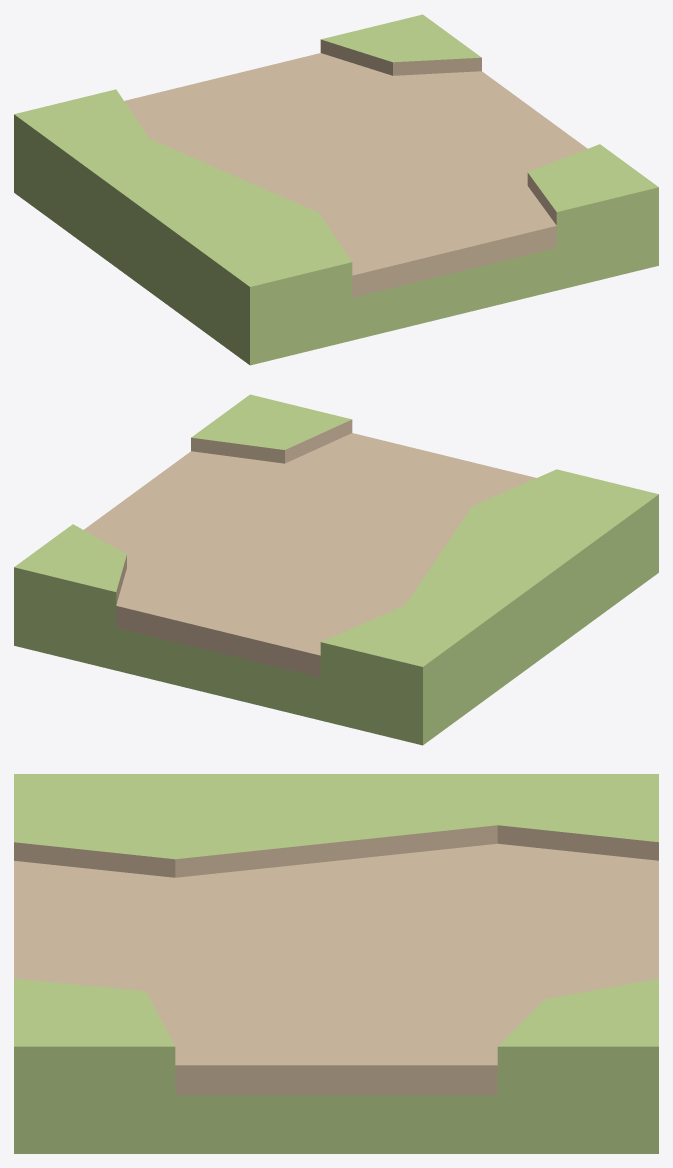
The model's file is road_tile_013.glb.
3 renders of one model, top to bottom at view 1: azimuth 30°, elevation 25°; view 2: azimuth 150°, elevation 25°; view 3: azimuth 270°, elevation 25°, orthographic. The views are drawn at different scales.
Visible parts, largest first — view 1: roadTile_013; view 2: roadTile_013; view 3: roadTile_013.
Boxes of the visible parts, left/top/right/bottom form: roadTile_013: left=14, top=14, right=658, bottom=365; roadTile_013: left=14, top=394, right=658, bottom=745; roadTile_013: left=14, top=774, right=658, bottom=1153.
Size of the model in its own units: 3 by 0.55 by 3.
